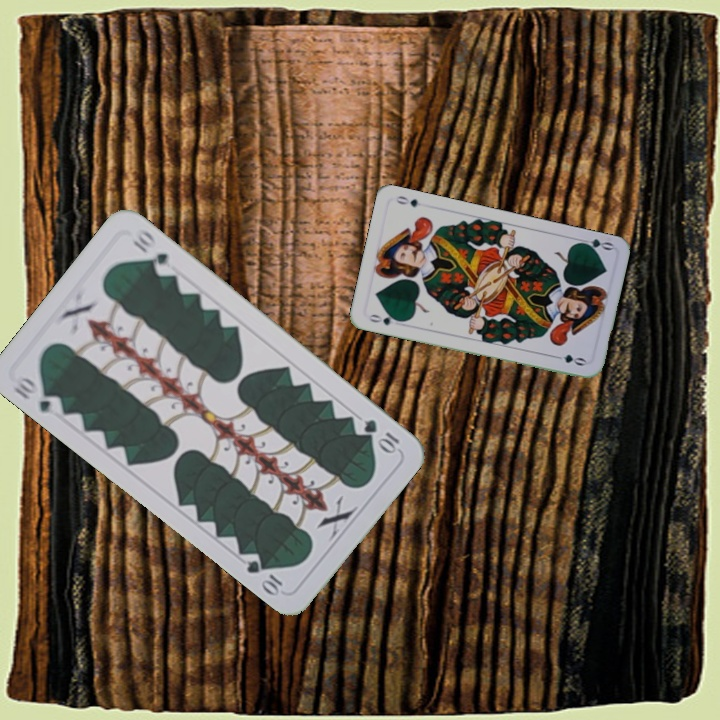G10: (8, 371, 66, 419), (359, 415, 402, 456)
GO: (574, 234, 615, 254), (365, 310, 404, 328)
